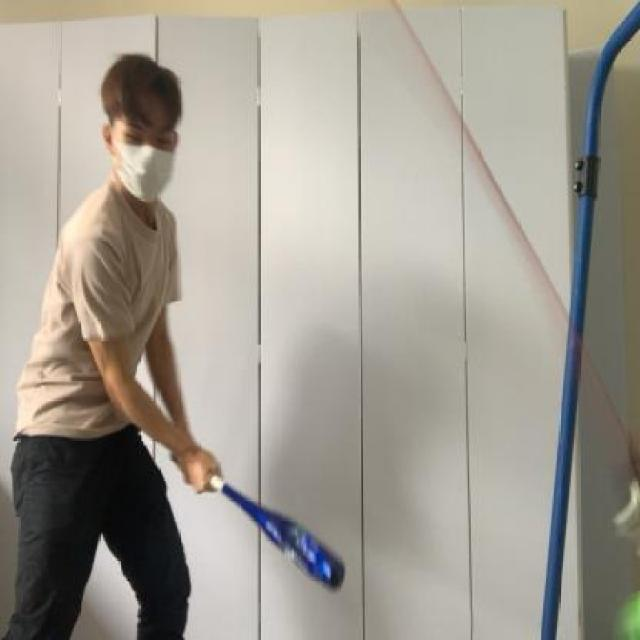baseball: (611, 587, 640, 640)
